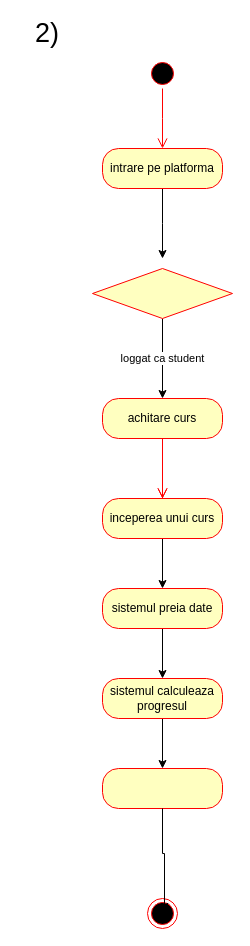
This 250x946 diagram has some shape labels left out. Here are the shapes that lost their labels. From the top down, the box of each, then its label:
(92, 268, 232, 318): logare student/c.d.
(102, 768, 222, 808): sistemul afiseaza progresul
